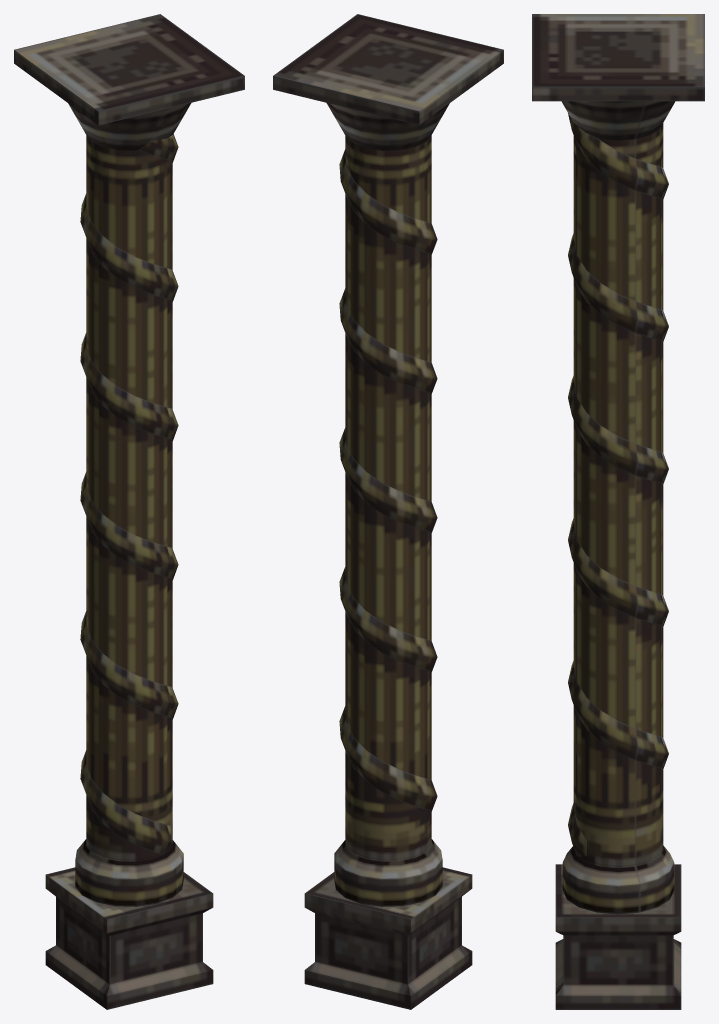
File: EnvBdgMD_Mansion_A_Outdoor_Piller_A_Left.FBX
3 views of the same model, side by side, from view 1: azimuth 30°, elevation 25°; view 2: azimuth 150°, elevation 25°; view 3: azimuth 270°, elevation 25° (orthographic). The views are drawn at different scales.
Visible parts, largest first — view 1: EnvBdgMD_Mansion_A_Outdoor_Piller_A_Left; view 2: EnvBdgMD_Mansion_A_Outdoor_Piller_A_Left; view 3: EnvBdgMD_Mansion_A_Outdoor_Piller_A_Left.
Boxes of the visible parts, left/top/right/bottom form: EnvBdgMD_Mansion_A_Outdoor_Piller_A_Left: left=14, top=14, right=244, bottom=1009; EnvBdgMD_Mansion_A_Outdoor_Piller_A_Left: left=273, top=14, right=503, bottom=1009; EnvBdgMD_Mansion_A_Outdoor_Piller_A_Left: left=532, top=14, right=704, bottom=1009.
Size of the model in its own units: 110 by 655 by 110.
1 material, 1 textured.
